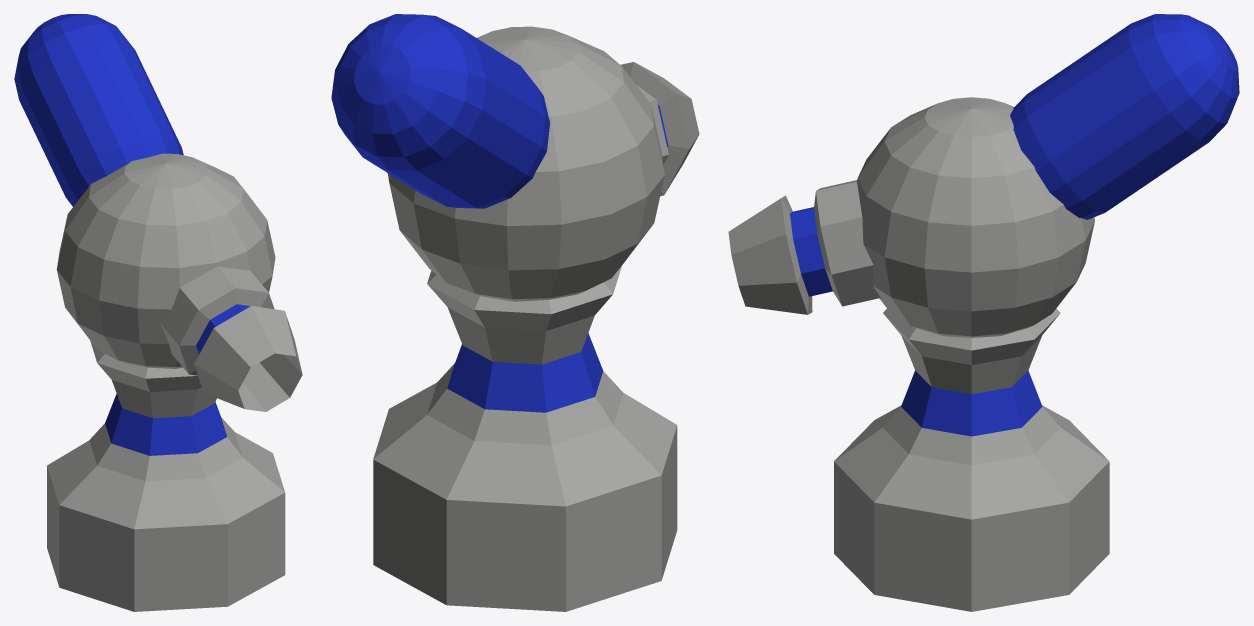
File: Gel_Explosive_Water.fbx
3 views of the same model, side by side, from view 1: azimuth 30°, elevation 25°; view 2: azimuth 150°, elevation 25°; view 3: azimuth 270°, elevation 25° (orthographic). The views are drawn at different scales.
Parts seen in each view (by area): view 1: Circle; view 2: Circle; view 3: Circle.
Part boxes in pixels (<box>): Circle: <box>14,14,302,611</box>; Circle: <box>331,14,699,611</box>; Circle: <box>728,14,1239,611</box>.
Bounding box in the file's own units: 310 × 662 × 575.
1 material, 1 textured.
